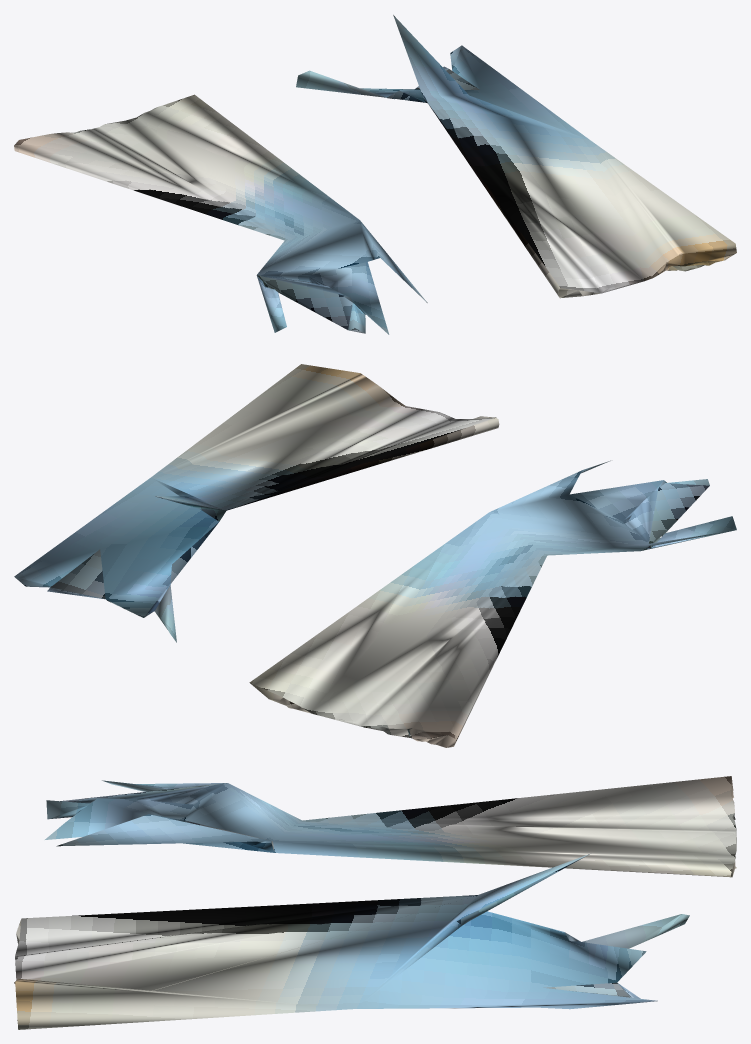
The model's file is Clorox_Premium_Choice_Gloves_SM_1_pair-low.glb.
3 views of the same model, one above another, from view 1: azimuth 30°, elevation 25°; view 2: azimuth 150°, elevation 25°; view 3: azimuth 270°, elevation 25° (orthographic). The views are drawn at different scales.
Visible parts, largest first — view 1: Clorox_Premium_Choice_Gloves_SM_1_pair; view 2: Clorox_Premium_Choice_Gloves_SM_1_pair; view 3: Clorox_Premium_Choice_Gloves_SM_1_pair.
Boxes of the visible parts, x1,y1,x2,y2 form: Clorox_Premium_Choice_Gloves_SM_1_pair: (14,15,736,334); Clorox_Premium_Choice_Gloves_SM_1_pair: (14,364,736,747); Clorox_Premium_Choice_Gloves_SM_1_pair: (14,776,736,1029).
Bounding box in the file's own units: 0.2724 × 0.0616 × 0.3257.
Materials: 1 (1 with a texture image).
